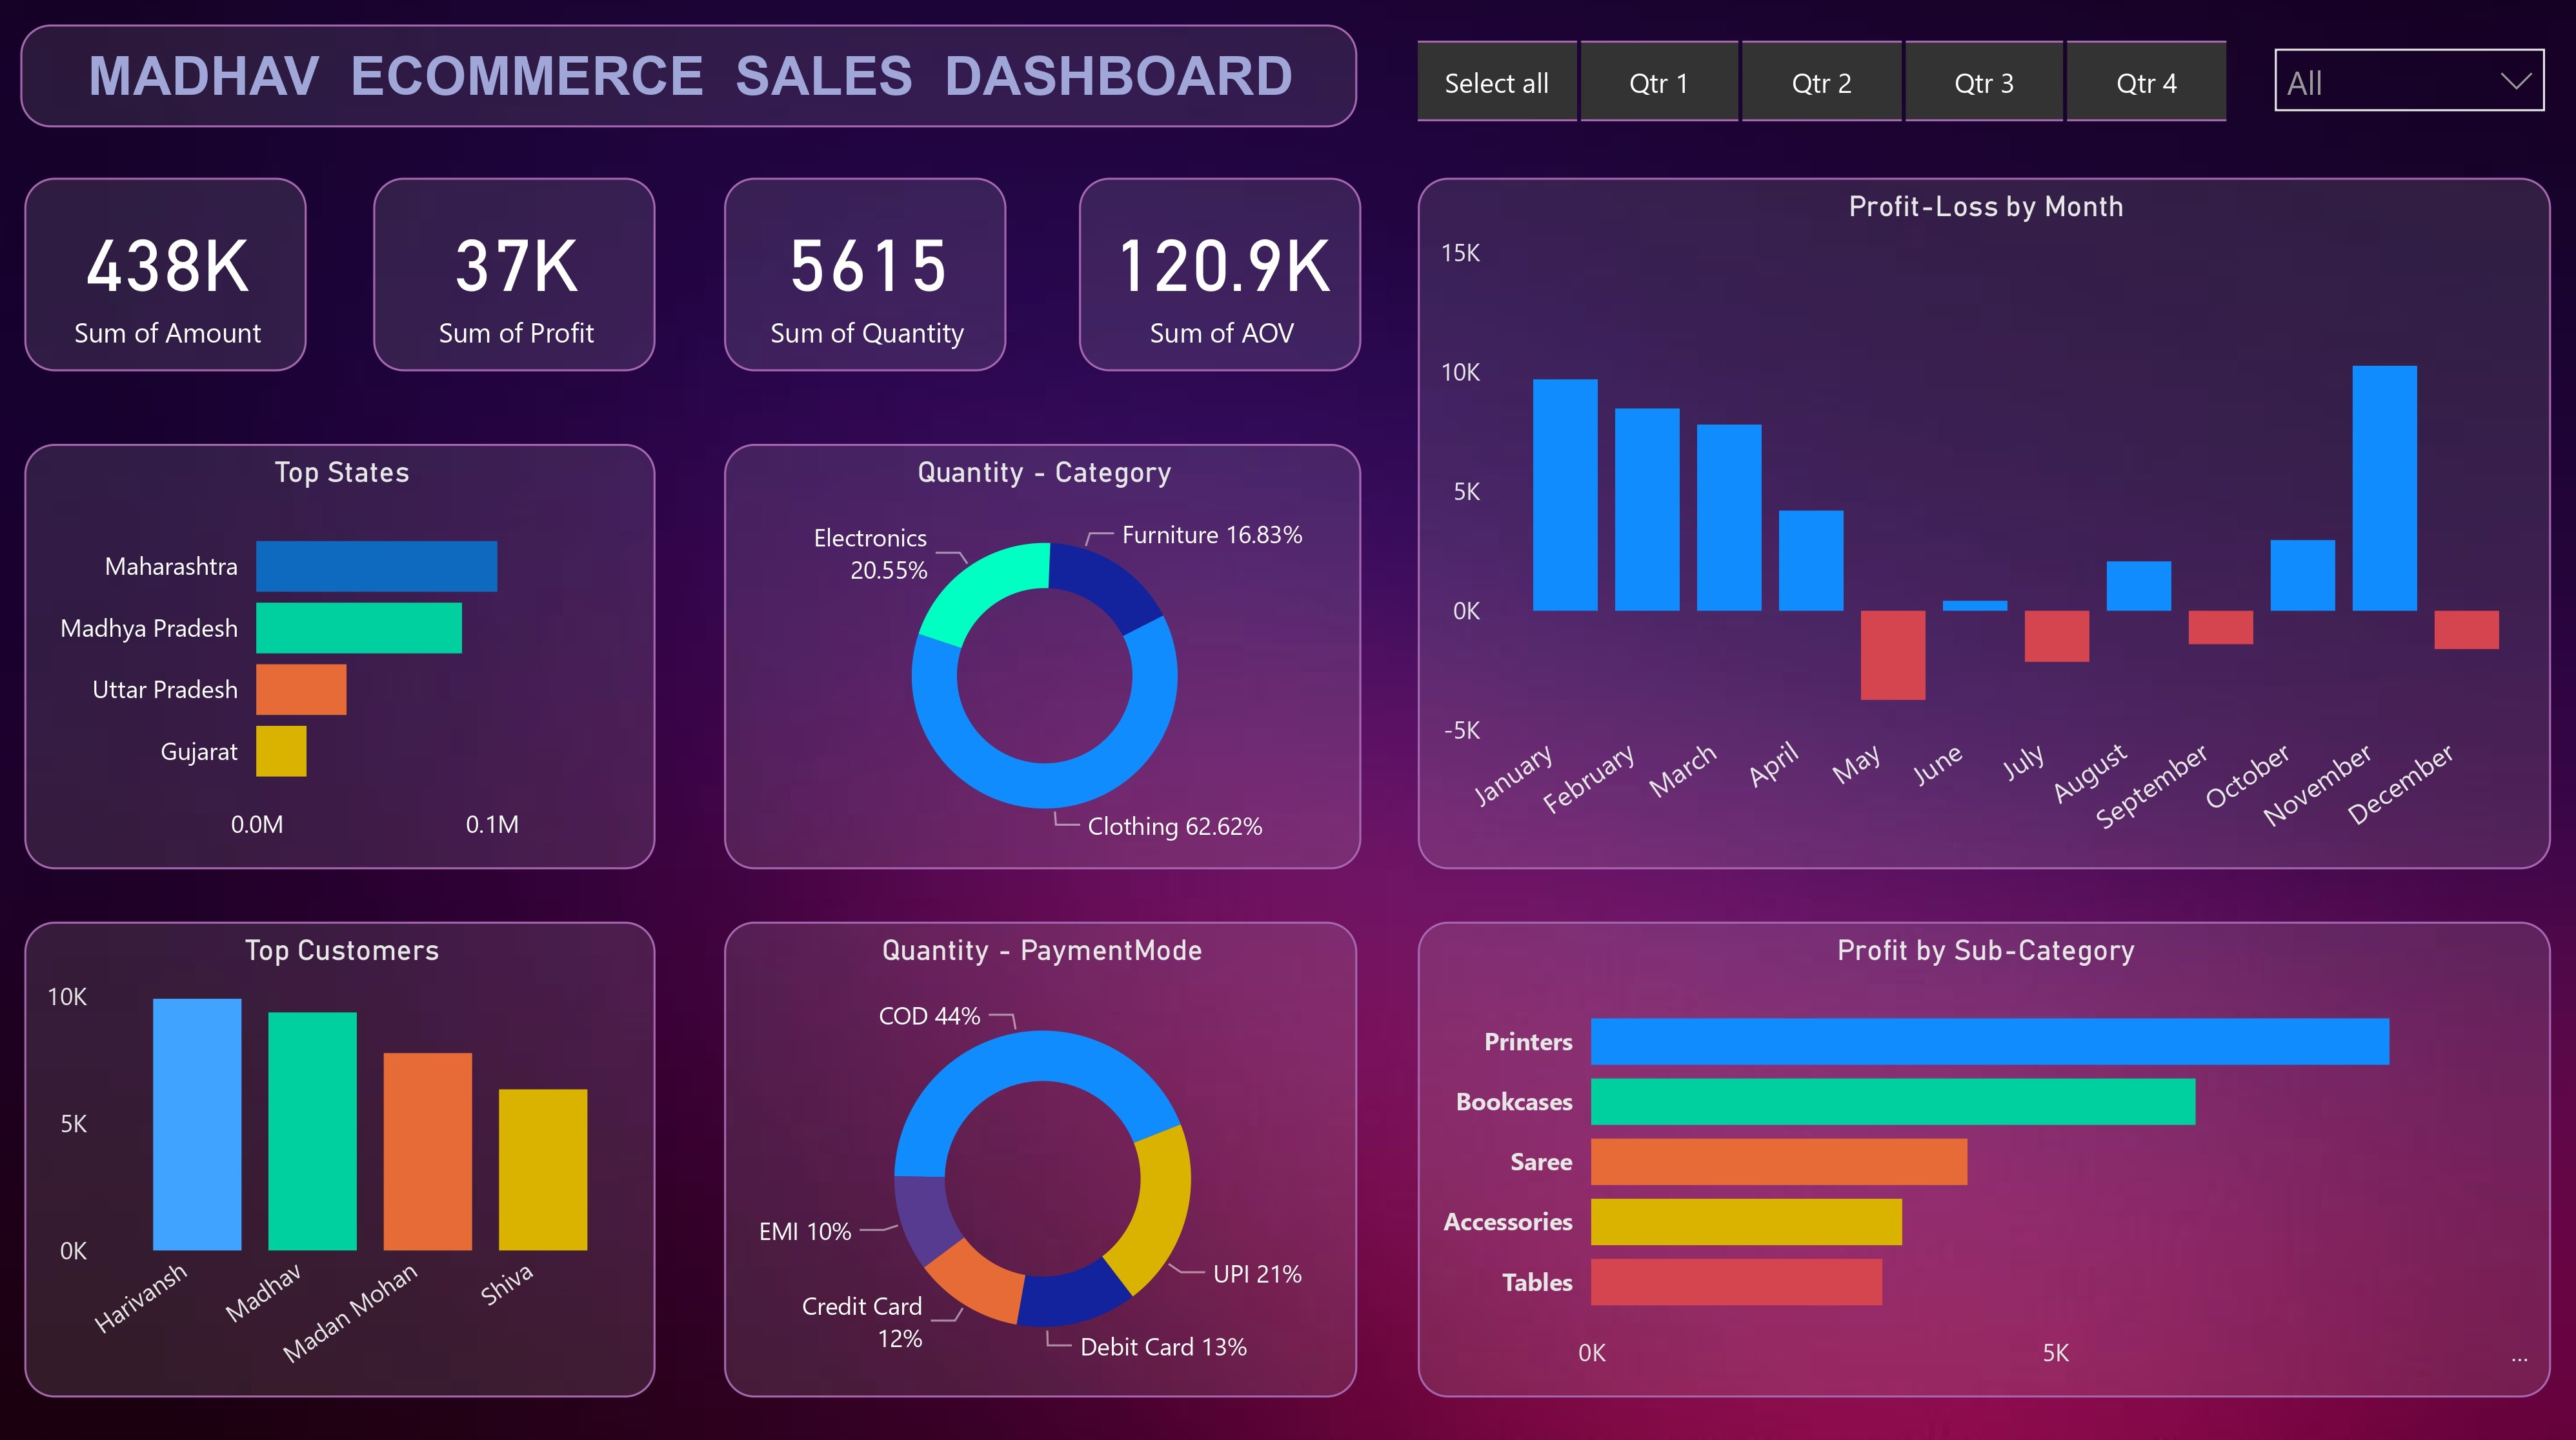

This screenshot's page, from the dashboard's own definition file:
{"tool":"powerbi","page":{"name":"Page 1","canvas":[1920,1080],"ordinal":0},"visuals":[{"type":"textbox","box":[561,45.2,761.9,52.5],"z":0},{"type":"columnChart","title":"Profit by Month","fields":{"Category":["Orders.Order Date.Variation.Date Hierarchy.Month"],"Y":["Sum(Details.Profit)"]},"box":[1141.9,238.9,742,396.3],"z":1000},{"type":"barChart","fields":{"Category":["Details.Sub-Category"],"Y":["Sum(Details.Profit)"]},"box":[1147.3,673.2,736.5,325.7],"z":2000},{"type":"donutChart","title":"Sum of Quantity by Categories","fields":{"Category":["Details.Category"],"Y":["Sum(Details.Quantity)"]},"box":[584.5,278.7,532,352.9],"z":3000},{"type":"donutChart","title":"Sum of Quantity by Categories","fields":{"Category":["Details.PaymentMode"],"Y":["Sum(Details.Quantity)"]},"box":[584.5,673.2,532,352],"z":4000},{"type":"cardVisual","fields":{"Data":["CountNonNull(HR_Analytics.EmpID)"]},"box":[32.6,103.2,263.5,175],"z":5000},{"type":"cardVisual","fields":{"Data":["Sum(HR_Analytics.AttritionCount)"]},"box":[296.8,103.2,263.5,175],"z":6000},{"type":"cardVisual","fields":{"Data":["HR_Analytics.AttritionRate"]},"box":[561,103.2,263.5,175],"z":7000},{"type":"cardVisual","fields":{"Data":["Avg(HR_Analytics.Age)"]},"box":[836.1,105,263,174],"z":8000},{"type":"barChart","fields":{"Category":["Orders.State"],"Y":["Sum(Details.Amount)"]},"box":[36.2,278.7,524.8,351.1],"z":9000},{"type":"columnChart","fields":{"Category":["Orders.CustomerName"],"Y":["Sum(Details.Amount)"]},"box":[36.2,671.4,524.8,351],"z":10000},{"type":"slicer","fields":{"Values":["Orders.Order Date.Variation.Date Hierarchy.Quarter"]},"box":[1116.6,103.2,548.3,110.4],"z":11000},{"type":"slicer","fields":{"Values":["Orders.State"]},"box":[1648.6,97.7,235.3,99.5],"z":12000}]}

Visuals, with their boxes in screenshot pixels (x1, y1, x2, y2), scaled from the page's 1920x1080 canvas onto the 2576x1440 screenshot:
textbox: [left=752, top=60, right=1775, bottom=130]
"Profit by Month" columnChart: [left=1532, top=319, right=2528, bottom=847]
barChart - Details.Sub-Category x Sum(Details.Profit): [left=1539, top=897, right=2528, bottom=1332]
"Sum of Quantity by Categories" donutChart: [left=784, top=372, right=1498, bottom=842]
"Sum of Quantity by Categories" donutChart: [left=784, top=897, right=1498, bottom=1367]
cardVisual - CountNonNull(HR_Analytics.EmpID): [left=44, top=137, right=397, bottom=371]
cardVisual - Sum(HR_Analytics.AttritionCount): [left=398, top=137, right=752, bottom=371]
cardVisual - HR_Analytics.AttritionRate: [left=752, top=137, right=1106, bottom=371]
cardVisual - Avg(HR_Analytics.Age): [left=1122, top=140, right=1474, bottom=372]
barChart - Orders.State x Sum(Details.Amount): [left=48, top=372, right=752, bottom=840]
columnChart - Orders.CustomerName x Sum(Details.Amount): [left=48, top=895, right=752, bottom=1363]
slicer - Orders.Order Date.Variation.Date Hierarchy.Quarter: [left=1498, top=137, right=2234, bottom=285]
slicer - Orders.State: [left=2212, top=130, right=2528, bottom=263]
